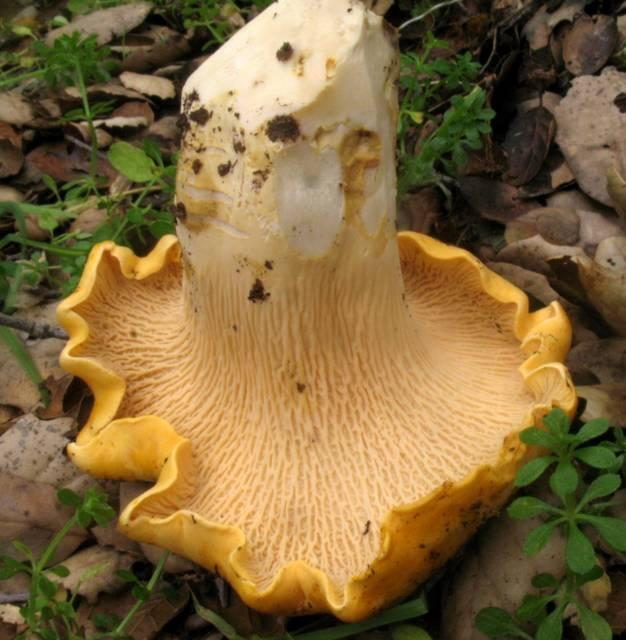edible_mushroom: (54, 0, 579, 623)
